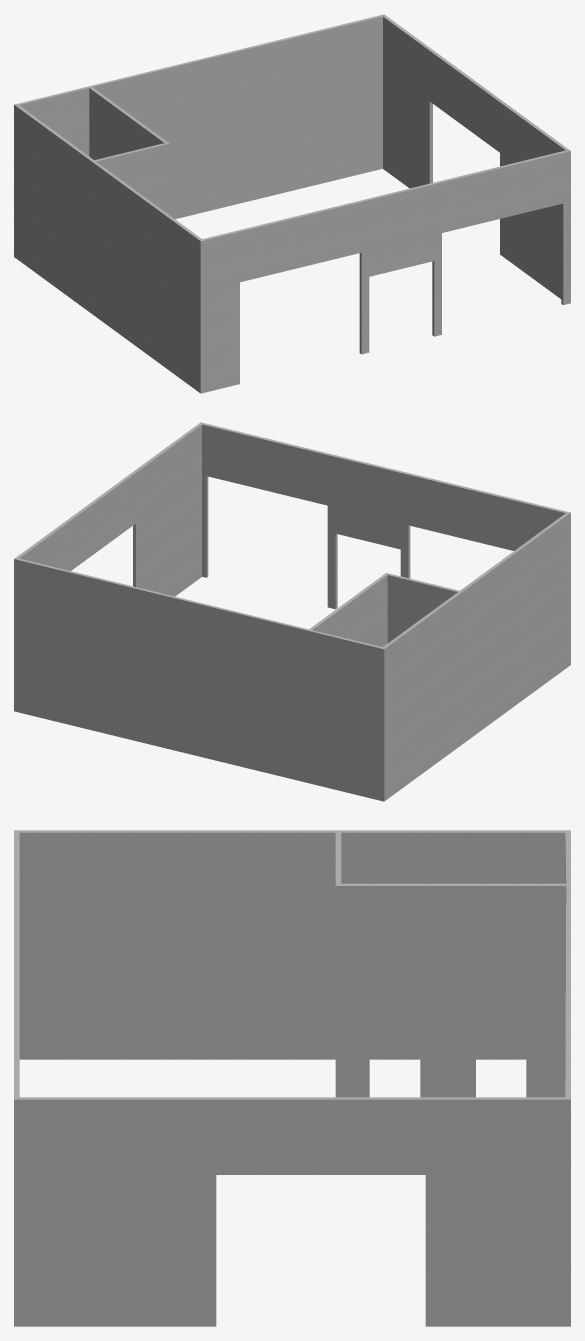
The model's file is SM_Wall.fbx.
3 views of the same model, one above another, from view 1: azimuth 30°, elevation 25°; view 2: azimuth 150°, elevation 25°; view 3: azimuth 270°, elevation 25° (orthographic). The views are drawn at different scales.
Visible parts, largest first — view 1: Wall001; view 2: Wall001; view 3: Wall001.
Part boxes in pixels (box(x1,y1,x2,y2)): Wall001: box(14, 14, 570, 393); Wall001: box(14, 422, 570, 801); Wall001: box(14, 830, 570, 1326).
Bounding box in the file's own units: 1144 × 450 × 1000.
1 material, 1 textured.
